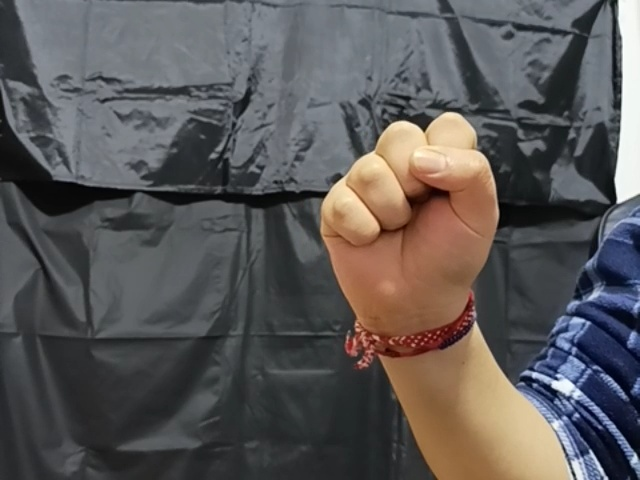S: (317, 113, 501, 318)
